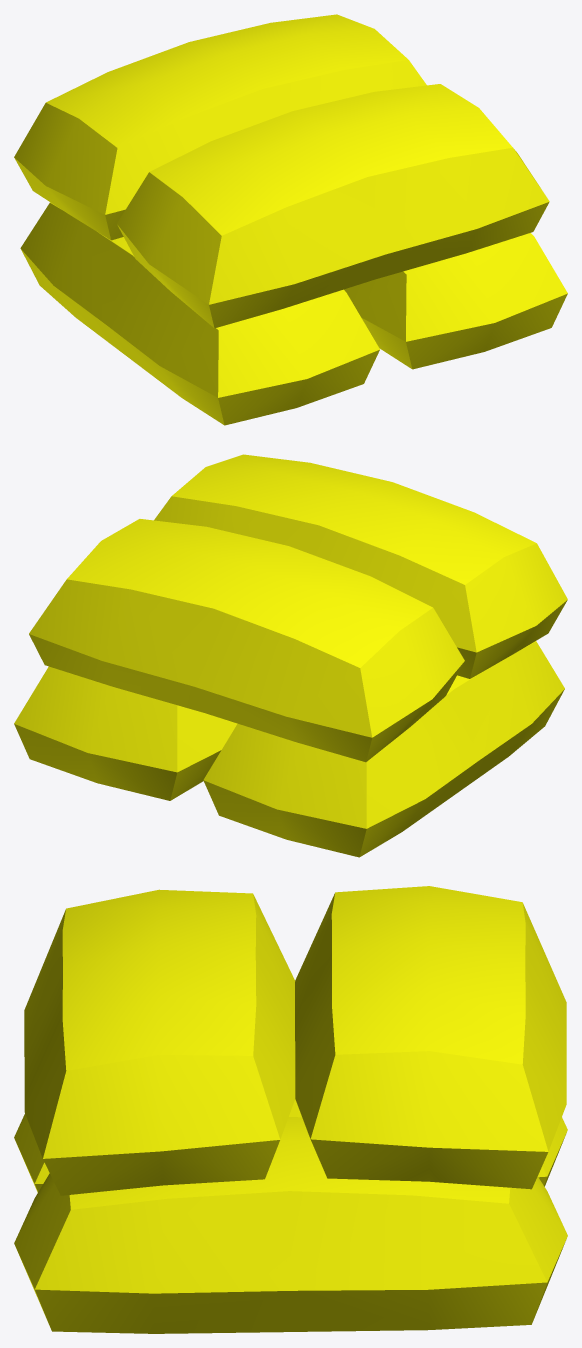
The picture shows the model from 3 angles, top to bottom: view 1: azimuth 30°, elevation 25°; view 2: azimuth 150°, elevation 25°; view 3: azimuth 270°, elevation 25°; orthographic projection. The views are drawn at different scales.
Visible parts, largest first — view 1: military_sandbag; view 2: military_sandbag; view 3: military_sandbag.
Part boxes in pixels (x1=…): military_sandbag: x1=14, y1=14, x2=567, y2=425; military_sandbag: x1=14, y1=454, x2=567, y2=857; military_sandbag: x1=14, y1=886, x2=567, y2=1333.
Size of the model in its own units: 0.0128 by 0.00738 by 0.0124.
Materials: 1 (1 with a texture image).
